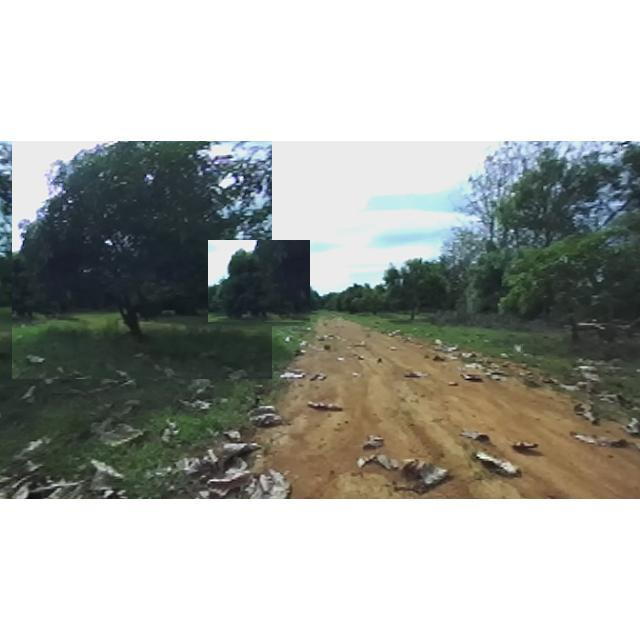direk: (12, 141, 272, 379), (496, 224, 640, 368), (499, 146, 606, 332), (208, 240, 310, 322), (375, 258, 453, 326)
